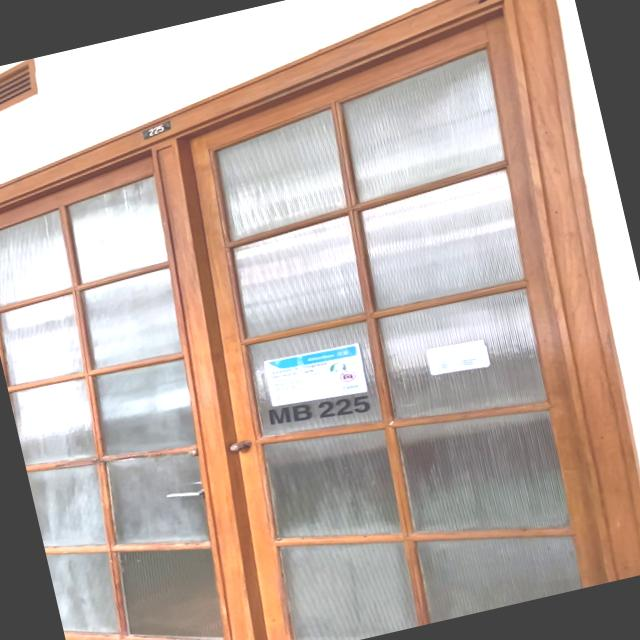room225: (138, 118, 176, 142)
room225Window: (264, 384, 374, 435)
